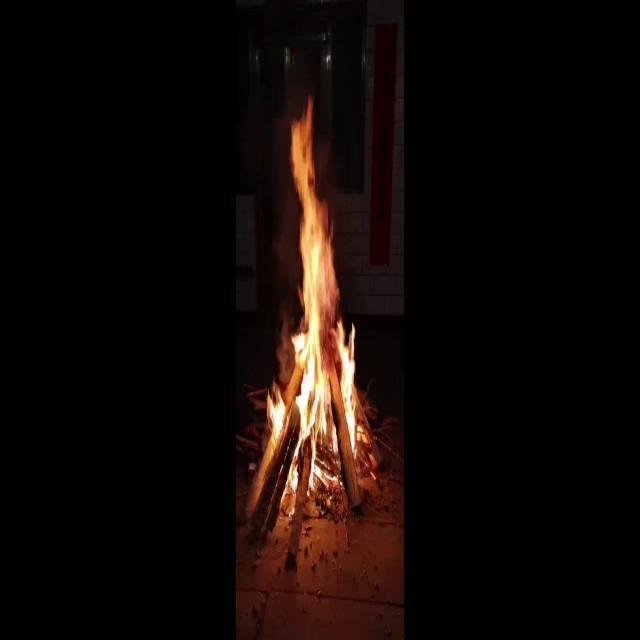Fire: (264, 94, 376, 516)
Smoke: (244, 77, 336, 386)
